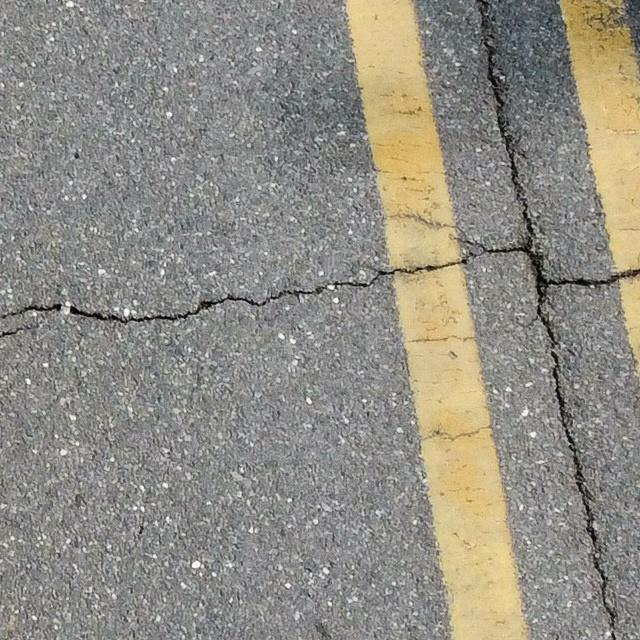LongitudinalCrack: (474, 4, 615, 638)
TransverseCrack: (2, 243, 530, 326), (551, 268, 640, 290)
